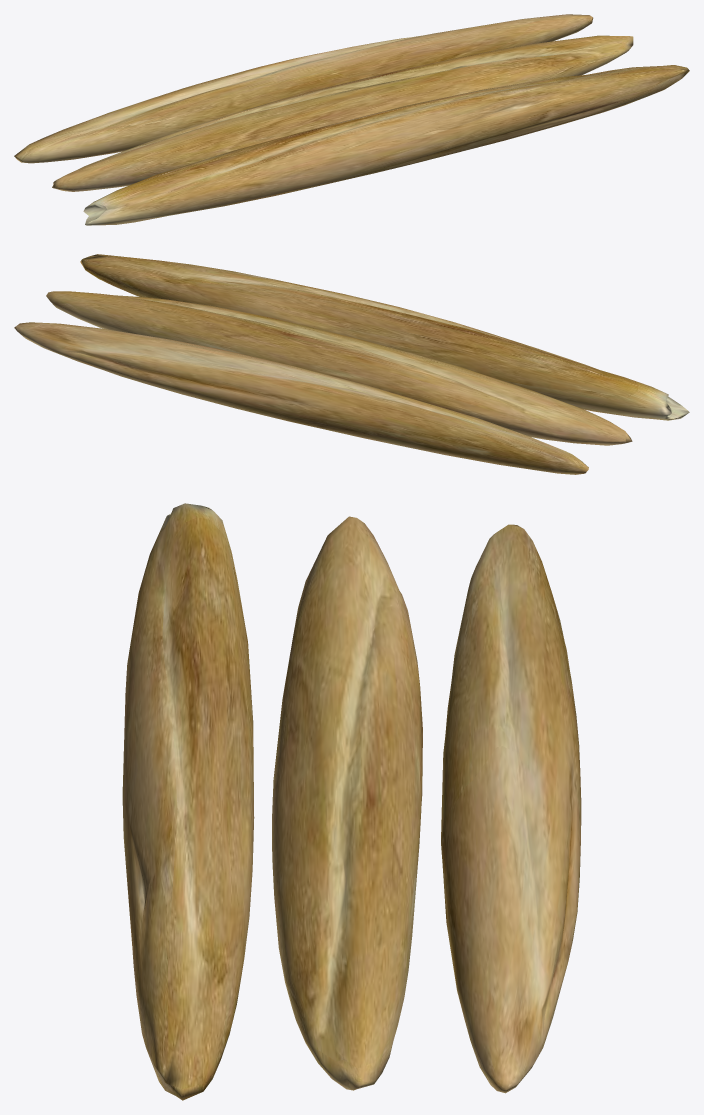
File: bagietki.glb
3 views of the same model, one above another, from view 1: azimuth 30°, elevation 25°; view 2: azimuth 150°, elevation 25°; view 3: azimuth 270°, elevation 25° (orthographic). The views are drawn at different scales.
Parts seen in each view (by area): view 1: bagietki; view 2: bagietki; view 3: bagietki.
Part boxes in pixels (left/top/right/bottom): bagietki: left=14, top=14, right=689, bottom=225; bagietki: left=14, top=254, right=689, bottom=474; bagietki: left=122, top=503, right=581, bottom=1100.
Size of the model in its own units: 0.6288 by 0.0457 by 0.2057.
Materials: 1 (1 with a texture image).
